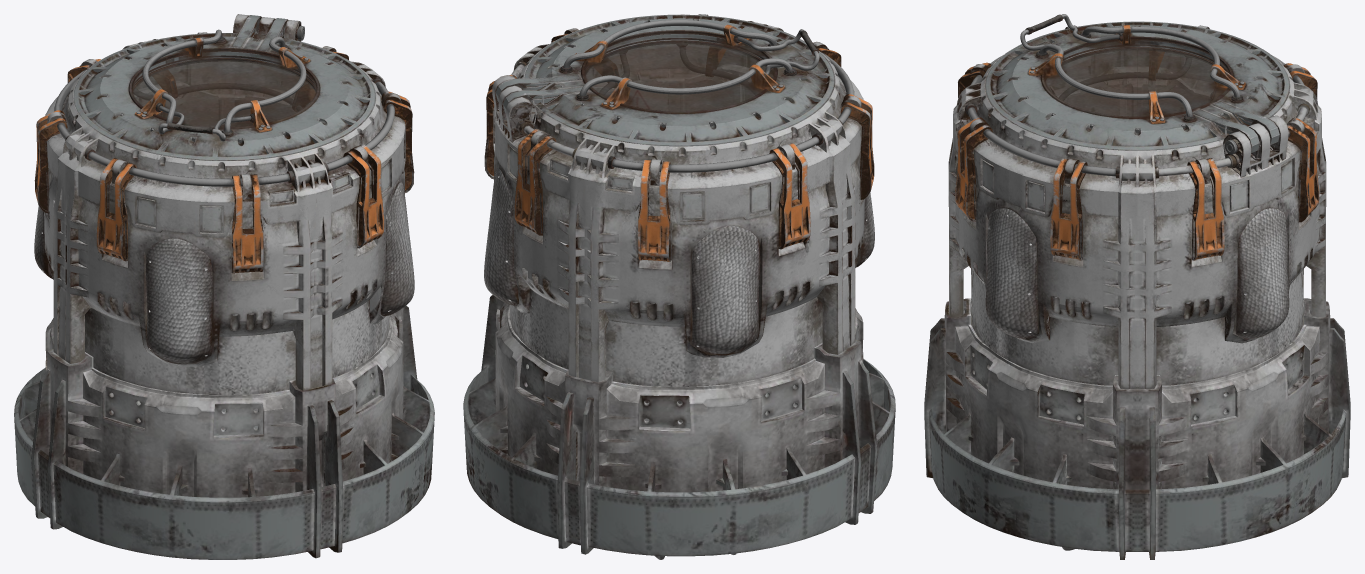
File: cargo-transporter-detail.glb
The picture shows the model from 3 angles, left to right: view 1: azimuth 30°, elevation 25°; view 2: azimuth 150°, elevation 25°; view 3: azimuth 270°, elevation 25°; orthographic projection. The views are drawn at different scales.
Visible parts, largest first — view 1: cargo-transporter; view 2: cargo-transporter; view 3: cargo-transporter.
Part boxes in pixels (x1,y1,x2,y2): cargo-transporter: [14, 14, 434, 559]; cargo-transporter: [463, 14, 895, 559]; cargo-transporter: [924, 14, 1350, 559].
Size of the model in its own units: 88 by 103 by 87.8.
Materials: 3 (3 with a texture image).
